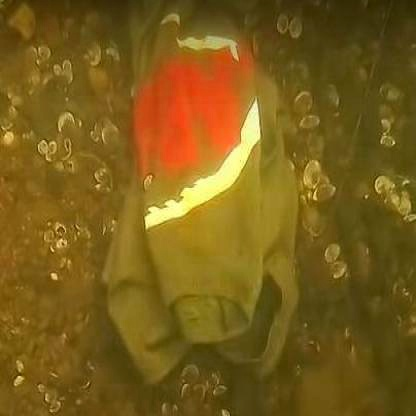misc: (145, 46, 275, 366)
